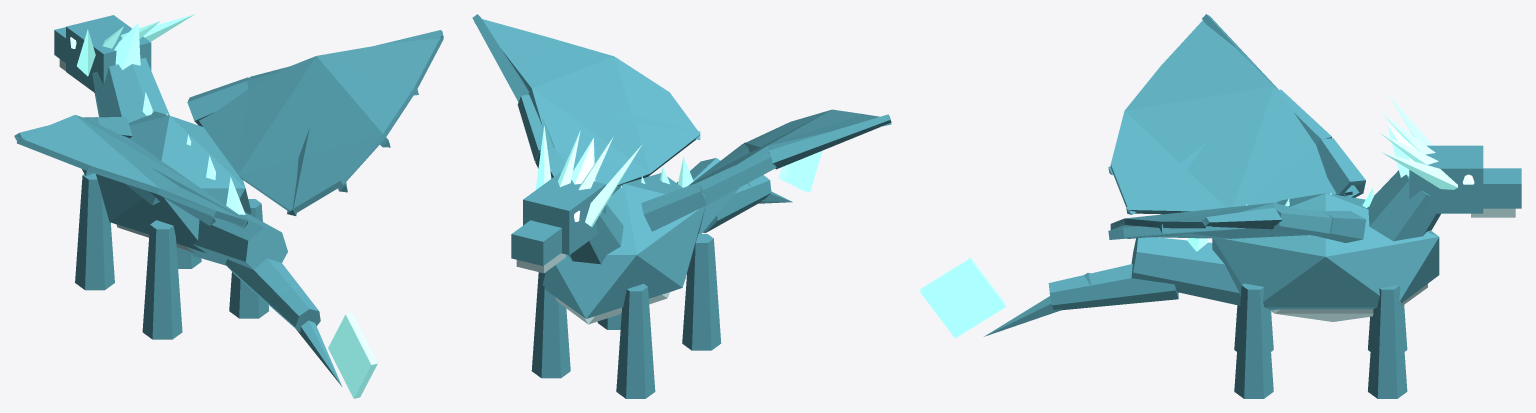
Rendered from dragon_tide.glb.
3 views of the same model, side by side, from view 1: azimuth 30°, elevation 25°; view 2: azimuth 150°, elevation 25°; view 3: azimuth 270°, elevation 25° (orthographic). The views are drawn at different scales.
Visible parts, largest first — view 1: DragonBody; view 2: DragonBody; view 3: DragonBody.
Part boxes in pixels (x1=…): DragonBody: x1=14, y1=14, x2=443, y2=398; DragonBody: x1=472, y1=14, x2=891, y2=398; DragonBody: x1=920, y1=14, x2=1521, y2=398.
Bounding box in the file's own units: 5.22 × 3.01 × 6.42.
